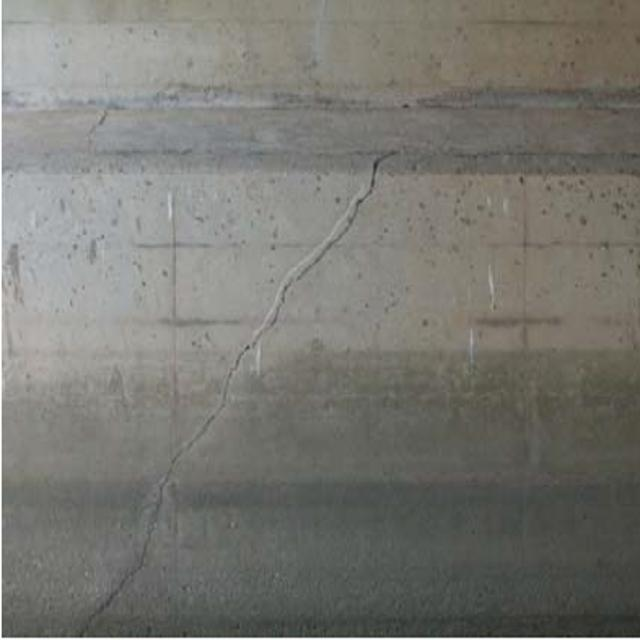crack: (52, 146, 394, 630)
